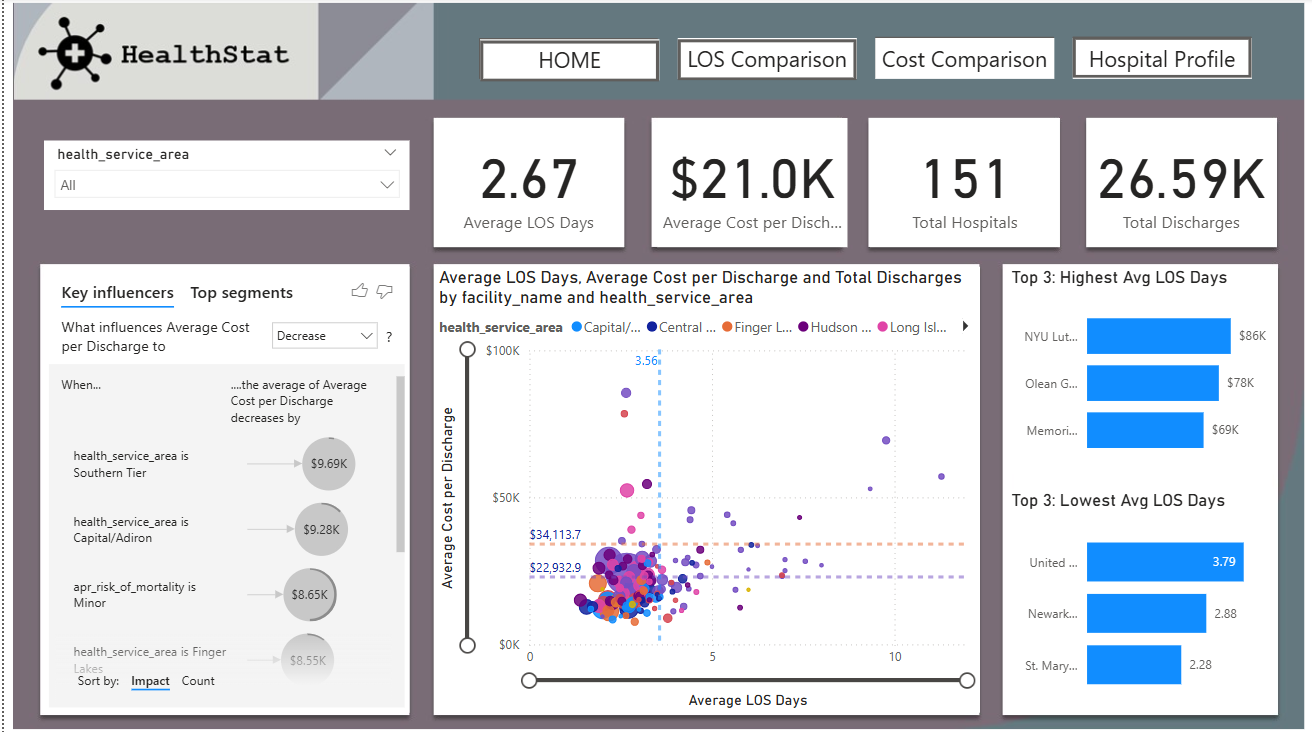

What the dashboard file says about the page in this screenshot:
{"tool":"powerbi","page":{"name":"Cost Comparison","canvas":[1280,720],"ordinal":10},"visuals":[{"type":"image","box":[0,0,1280.3,720.2],"z":0},{"type":"card","fields":{"Values":["Measures (2).Average LOS Days"]},"box":[421,117.6,185.8,126.1],"z":1000},{"type":"card","fields":{"Values":["Measures (2).Total Hospitals"]},"box":[847.2,117.6,185.8,126.1],"z":2000},{"type":"card","fields":{"Values":["Measures (2).Total Discharges"]},"box":[1058.5,117.6,185.8,126.1],"z":3000},{"type":"slicer","fields":{"Values":["hospital_data.health_service_area"]},"box":[39.2,139.8,358,68.2],"z":4000},{"type":"barChart","title":"Top 3: Highest Avg LOS Days","fields":{"Y":["Measures (2).Average Cost per Discharge"],"Category":["hospital_data.facility_name"]},"box":[980.1,262.5,264.2,202.8],"z":5000},{"type":"barChart","title":"Top 3: Lowest Avg LOS Days","fields":{"Y":["Measures (2).Average LOS Days"],"Category":["hospital_data.facility_name"]},"box":[980.1,480.7,264.2,218.2],"z":6000},{"type":"card","fields":{"Values":["Measures (2).Average Cost per Discharge"]},"box":[639.2,117.6,185.8,126.1],"z":7000},{"type":"scatterChart","fields":{"Category":["hospital_data.facility_name"],"X":["Measures (2).Average LOS Days"],"Size":["Measures (2).Total Discharges"],"Series":["hospital_data.health_service_area"],"Y":["Measures (2).Average Cost per Discharge"]},"box":[421,262.5,533.5,436.4],"z":8000},{"type":"keyDriversVisual","fields":{"ExplainBy":["hospital_data.apr_risk_of_mortality","hospital_data.apr_severity_of_illness_description","hospital_data.ccs_procedure_description","hospital_data.patient_disposition","hospital_data.gender","hospital_data.Age Bins","surgical_program_size_summary.Surgical Program Size","hospital_data.health_service_area"],"Target":["Measures (2).Average Cost per Discharge"]},"box":[39.2,262.5,358,436.4],"z":9000},{"type":"textbox","box":[659.1,39.1,174.9,40.4],"z":10000},{"type":"actionButton","box":[852.3,37.9,174.9,40.4],"z":11000},{"type":"actionButton","box":[1045.5,37.9,174.9,40.4],"z":12000},{"type":"actionButton","box":[464.7,39.1,174.9,40.4],"z":13000},{"type":"textbox","box":[465.9,40.4,174.9,40.4],"z":14000},{"type":"textbox","box":[852.3,39.1,174.9,40.4],"z":15000},{"type":"textbox","box":[1045.5,39.1,174.9,40.4],"z":16000},{"type":"actionButton","box":[659.1,40.4,174.9,40.4],"z":17000},{"type":"actionButton","box":[1045.5,37.9,174.9,40.4],"z":18000},{"type":"actionButton","box":[465.9,41.6,174.9,40.4],"z":19000}]}

Visuals, with their boxes in screenshot pixels (x1, y1, x2, y2), scaled from the page's 1280x720 canvas onto the 1312x732 screenshot:
image: x1=0, y1=0, x2=1311, y2=731
card - Measures (2).Average LOS Days: x1=432, y1=120, x2=622, y2=248
card - Measures (2).Total Hospitals: x1=868, y1=120, x2=1059, y2=248
card - Measures (2).Total Discharges: x1=1085, y1=120, x2=1275, y2=248
slicer - hospital_data.health_service_area: x1=40, y1=142, x2=407, y2=211
"Top 3: Highest Avg LOS Days" barChart: x1=1005, y1=267, x2=1275, y2=473
"Top 3: Lowest Avg LOS Days" barChart: x1=1005, y1=489, x2=1275, y2=711
card - Measures (2).Average Cost per Discharge: x1=655, y1=120, x2=846, y2=248
scatterChart - hospital_data.facility_name x Measures (2).Average LOS Days: x1=432, y1=267, x2=978, y2=711
keyDriversVisual - hospital_data.apr_risk_of_mortality x hospital_data.apr_severity_of_illness_description: x1=40, y1=267, x2=407, y2=711
textbox: x1=676, y1=40, x2=855, y2=81
actionButton: x1=874, y1=39, x2=1053, y2=80
actionButton: x1=1072, y1=39, x2=1251, y2=80
actionButton: x1=476, y1=40, x2=656, y2=81
textbox: x1=478, y1=41, x2=657, y2=82
textbox: x1=874, y1=40, x2=1053, y2=81
textbox: x1=1072, y1=40, x2=1251, y2=81
actionButton: x1=676, y1=41, x2=855, y2=82
actionButton: x1=1072, y1=39, x2=1251, y2=80
actionButton: x1=478, y1=42, x2=657, y2=83
